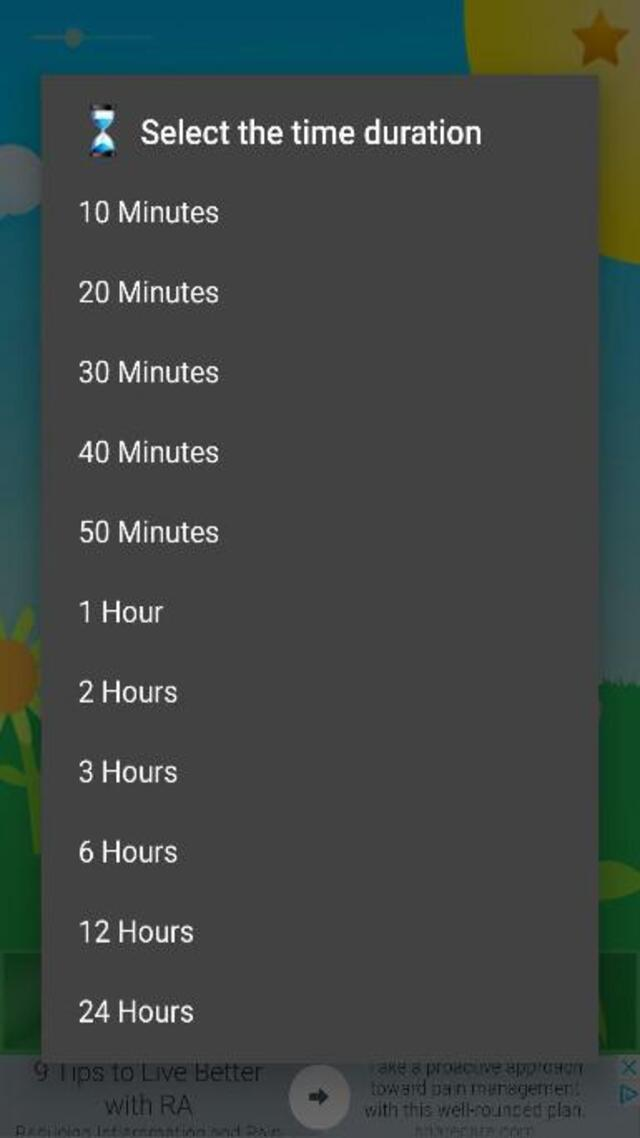Image: (89, 102, 117, 158)
Text: (140, 118, 482, 146), (78, 280, 218, 303), (80, 360, 220, 383), (78, 440, 218, 463), (80, 200, 218, 223), (80, 520, 218, 543), (79, 998, 194, 1022), (80, 918, 193, 942), (79, 678, 177, 702), (79, 760, 177, 783), (79, 840, 177, 863), (80, 600, 163, 623)
